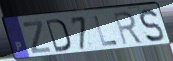7: (70, 15, 87, 50)
D: (44, 17, 72, 53)
L: (92, 14, 119, 47)
R: (112, 10, 144, 47)
S: (138, 8, 166, 45)
Z: (22, 19, 53, 55)
